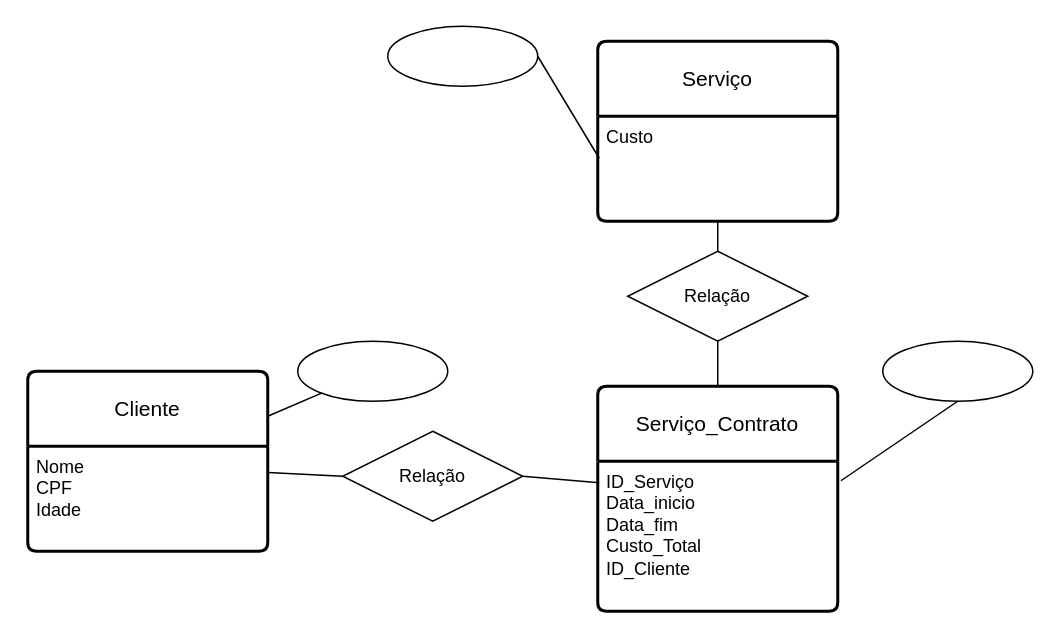
This 1059x639 diagram has some shape labels left out. The shapes that lost their labels are listed below. From the top down, each one's centre as x and y in pixels, then its label:
At (462,55): "ID_Serviço".
At (372,370): "ID_Cliente".
At (957,370): "ID_Contrato".
